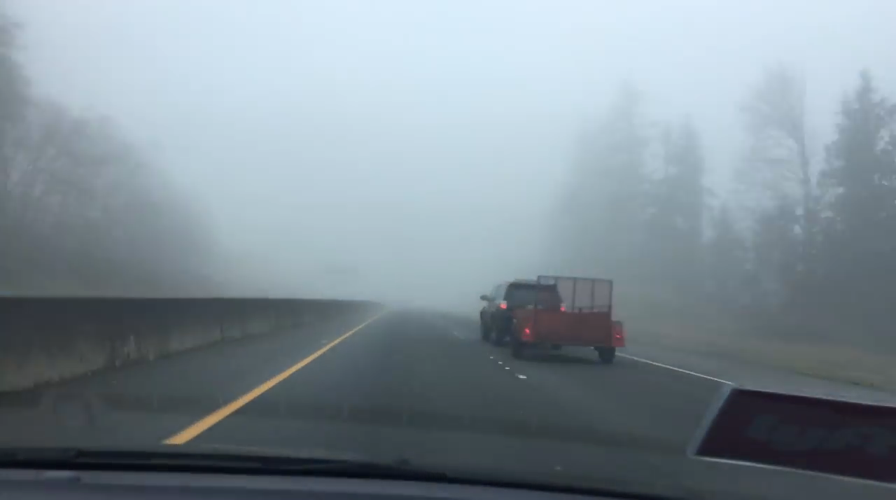car: (475, 280, 567, 348)
